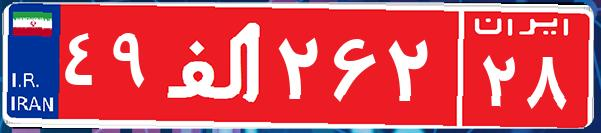2: (385, 28, 445, 110), (273, 28, 330, 110), (475, 38, 525, 113)
4: (57, 26, 110, 107)
6: (330, 28, 385, 110)
8: (525, 38, 570, 115)
9: (110, 28, 158, 105)
الف: (158, 15, 273, 115)
